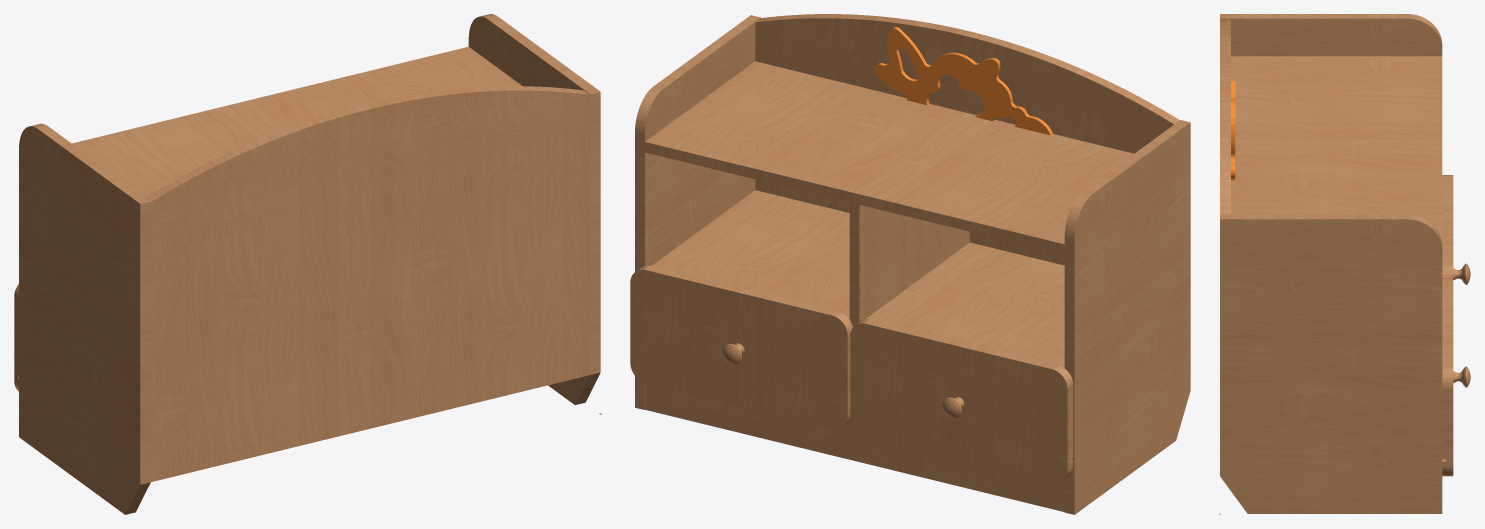
The model's file is komod_ot_nabora_vilena.glb.
The picture shows the model from 3 angles, left to right: view 1: azimuth 30°, elevation 25°; view 2: azimuth 150°, elevation 25°; view 3: azimuth 270°, elevation 25°; orthographic projection. The views are drawn at different scales.
Visible parts, largest first — view 1: Shape_IndexedFaceSet.005, Shape_IndexedFaceSet.003, Shape_IndexedFaceSet.009, Shape_IndexedFaceSet.006, Shape_IndexedFaceSet.002, Shape_IndexedFaceSet.004; view 2: Shape_IndexedFaceSet.006, Shape_IndexedFaceSet.003, Shape_IndexedFaceSet.001, Shape_IndexedFaceSet.020, Shape_IndexedFaceSet.012, Shape_IndexedFaceSet.009, Shape_IndexedFaceSet.002, Shape_IndexedFaceSet.010, Shape_IndexedFaceSet, Shape_IndexedFaceSet.007_FAN, Shape_IndexedFaceSet.005; view 3: Shape_IndexedFaceSet.002, Shape_IndexedFaceSet.006, Shape_IndexedFaceSet.003, Shape_IndexedFaceSet.012, Shape_IndexedFaceSet.009, Shape_IndexedFaceSet.020, Shape_IndexedFaceSet.007_FAN.
Boxes of the visible parts, x1,y1,x2,y2 form: Shape_IndexedFaceSet.005: (151, 146, 590, 470); Shape_IndexedFaceSet.003: (19, 123, 150, 514); Shape_IndexedFaceSet.009: (145, 86, 590, 242); Shape_IndexedFaceSet.006: (72, 46, 590, 253); Shape_IndexedFaceSet.002: (468, 14, 600, 404); Shape_IndexedFaceSet.004: (151, 364, 590, 481); Shape_IndexedFaceSet.006: (645, 61, 1133, 254); Shape_IndexedFaceSet.003: (1064, 120, 1190, 514); Shape_IndexedFaceSet.001: (652, 190, 1064, 367); Shape_IndexedFaceSet.020: (850, 319, 1073, 482); Shape_IndexedFaceSet.012: (630, 265, 852, 428); Shape_IndexedFaceSet.009: (755, 14, 1179, 153); Shape_IndexedFaceSet.002: (635, 15, 760, 409); Shape_IndexedFaceSet.010: (645, 383, 1064, 511); Shape_IndexedFaceSet: (849, 202, 969, 322); Shape_IndexedFaceSet.007_FAN: (874, 27, 1052, 135); Shape_IndexedFaceSet.005: (755, 179, 1064, 265); Shape_IndexedFaceSet.002: (1220, 214, 1442, 513); Shape_IndexedFaceSet.006: (1231, 56, 1442, 243); Shape_IndexedFaceSet.003: (1220, 14, 1442, 56); Shape_IndexedFaceSet.012: (1442, 278, 1453, 476); Shape_IndexedFaceSet.009: (1220, 19, 1230, 214); Shape_IndexedFaceSet.020: (1442, 175, 1453, 277); Shape_IndexedFaceSet.007_FAN: (1231, 80, 1235, 180).
Bounding box in the file's own units: 701 × 525 × 362.
28 materials, 27 textured.
